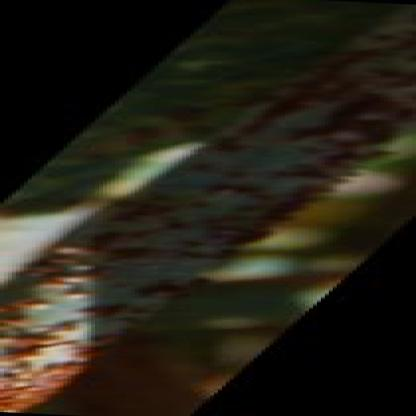wheat Stem Rust: (225, 124, 360, 162), (284, 72, 408, 113), (11, 282, 53, 401), (193, 172, 311, 202), (66, 241, 209, 264), (118, 210, 238, 235)
